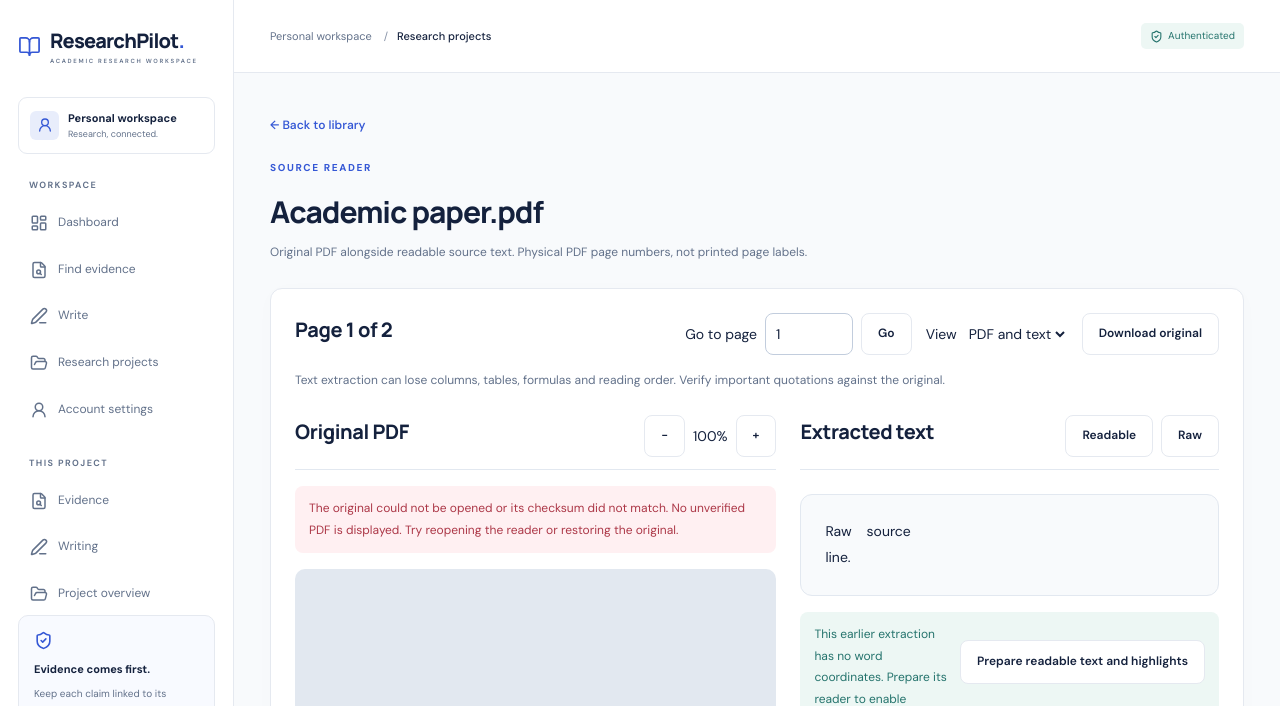
Scenario: lets a user request bounded reader preparation for a legacy extraction
Click the button "Prepare readable text and highlights". click: x=1082, y=662
box: top-left (960, 640), bottom-right (1205, 684)
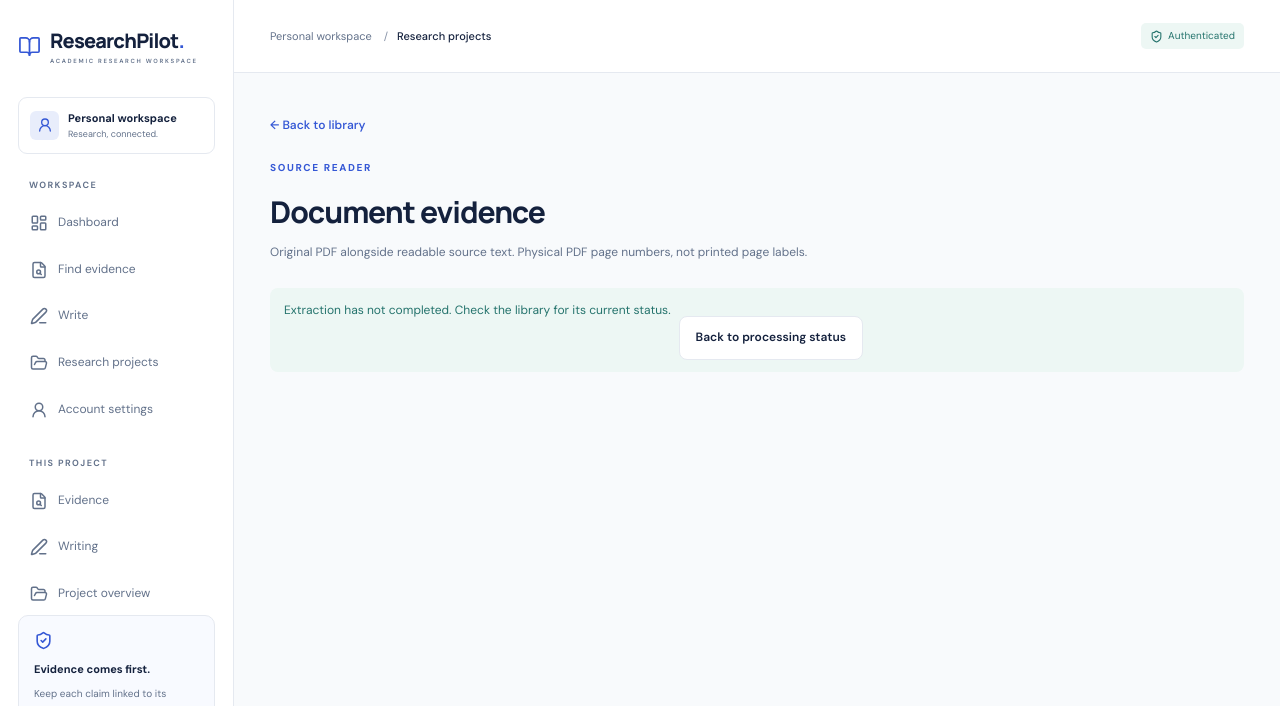
Check: the text "Extraction has not completed" is shown, box top-left (284, 302), bottom-right (671, 318)
